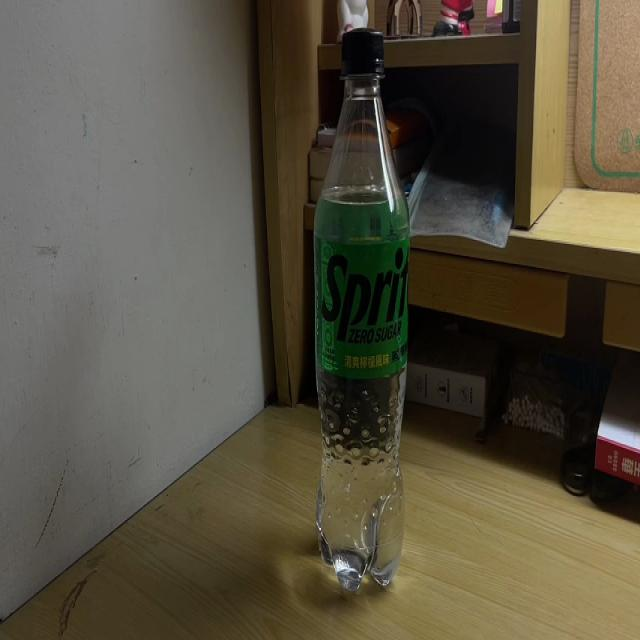Sprite: (312, 28, 410, 600)
